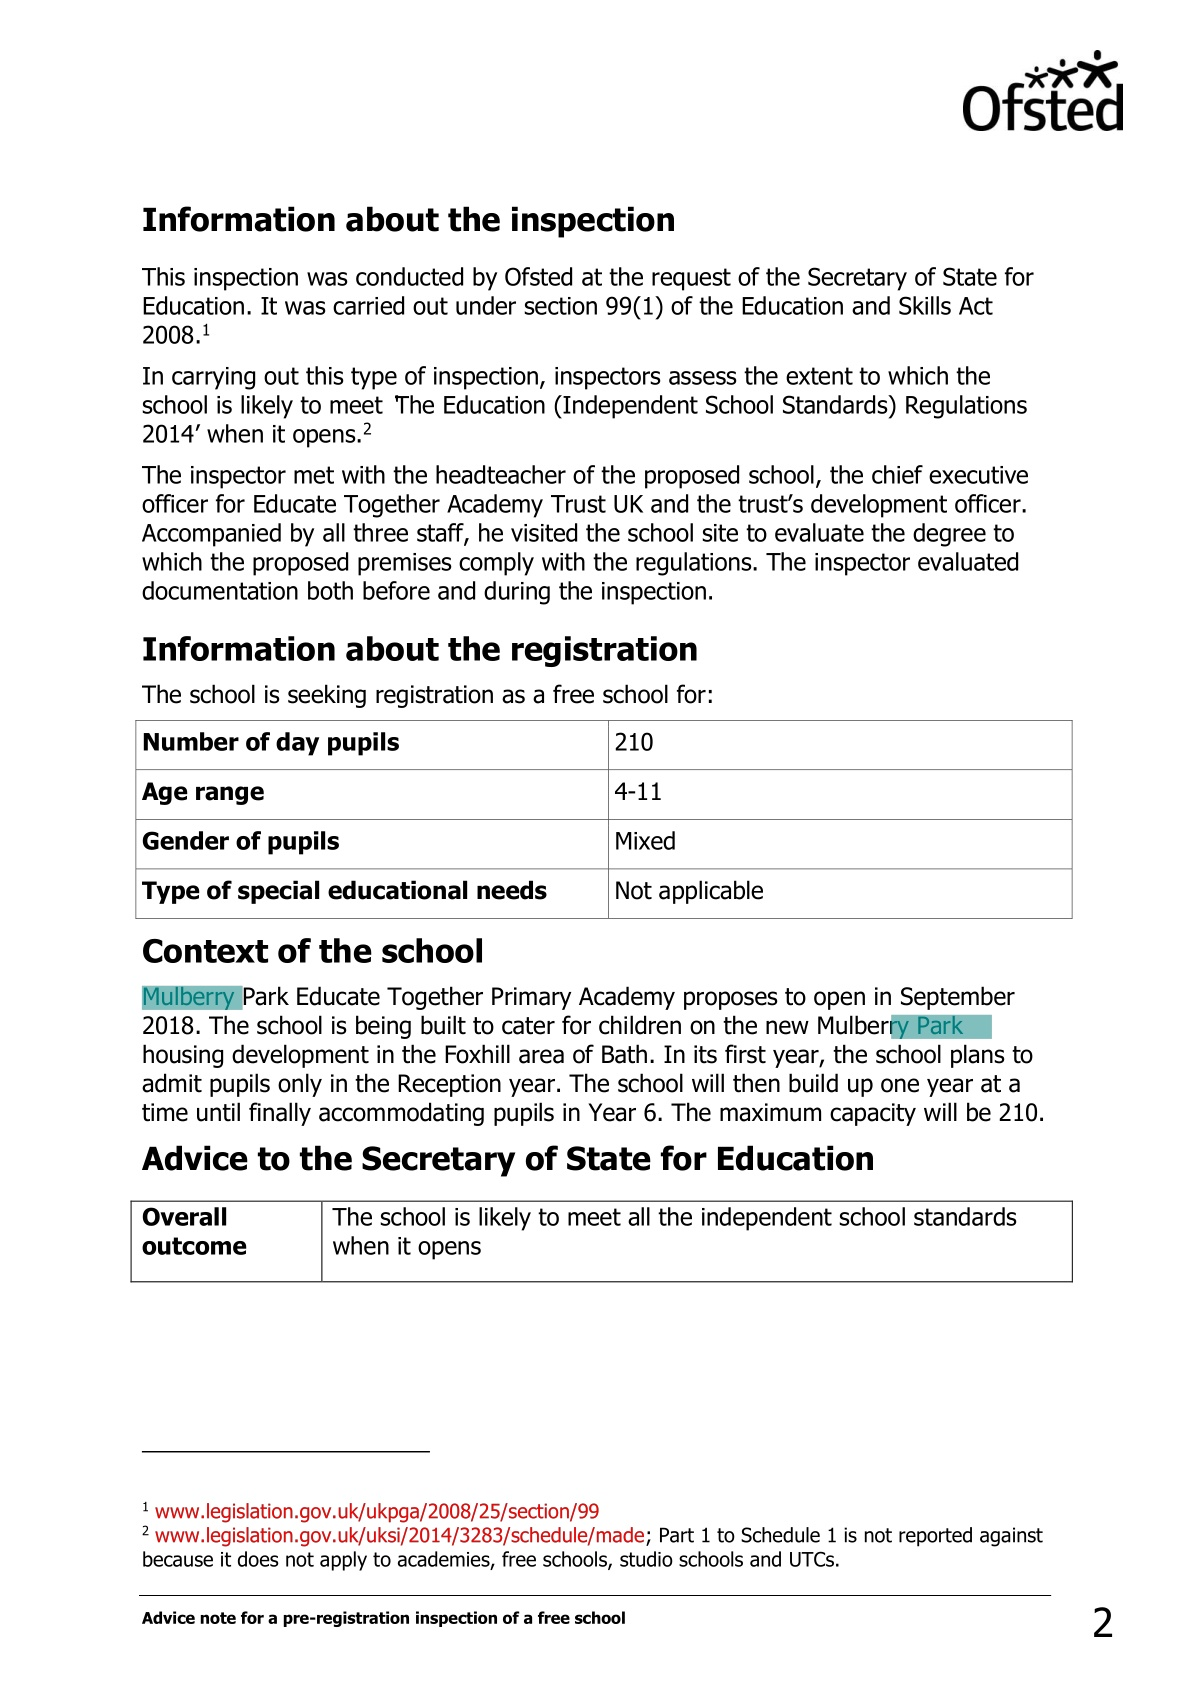full_lined: (134, 718, 1073, 921), (130, 1199, 1074, 1284)
